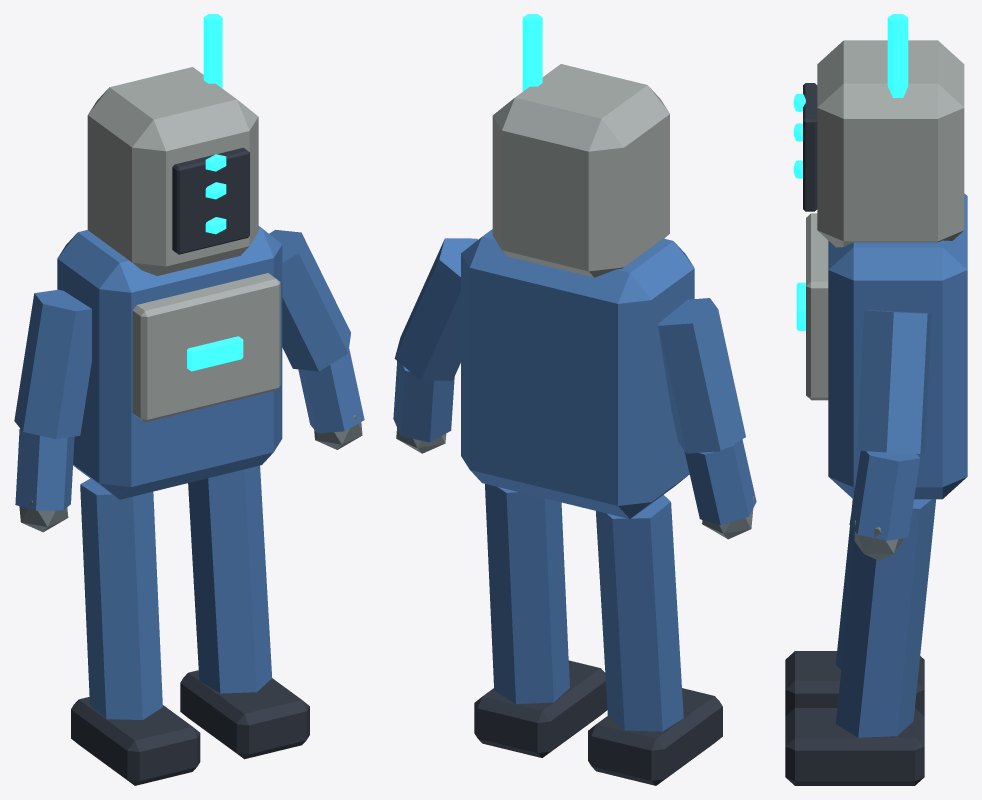
Rendered from npcs_009_seed78877.glb.
3 renders of one model, left to right at view 1: azimuth 30°, elevation 25°; view 2: azimuth 150°, elevation 25°; view 3: azimuth 270°, elevation 25°, orthographic. The views are drawn at different scales.
Parts seen in each view (by area): view 1: npcs_009_seed78877; view 2: npcs_009_seed78877; view 3: npcs_009_seed78877.
Boxes of the visible parts, x1,y1,x2,y2 form: npcs_009_seed78877: [14, 14, 364, 785]; npcs_009_seed78877: [393, 14, 756, 785]; npcs_009_seed78877: [785, 14, 967, 785].
Bounding box in the file's own units: 0.8788 × 1.72 × 0.3808.
